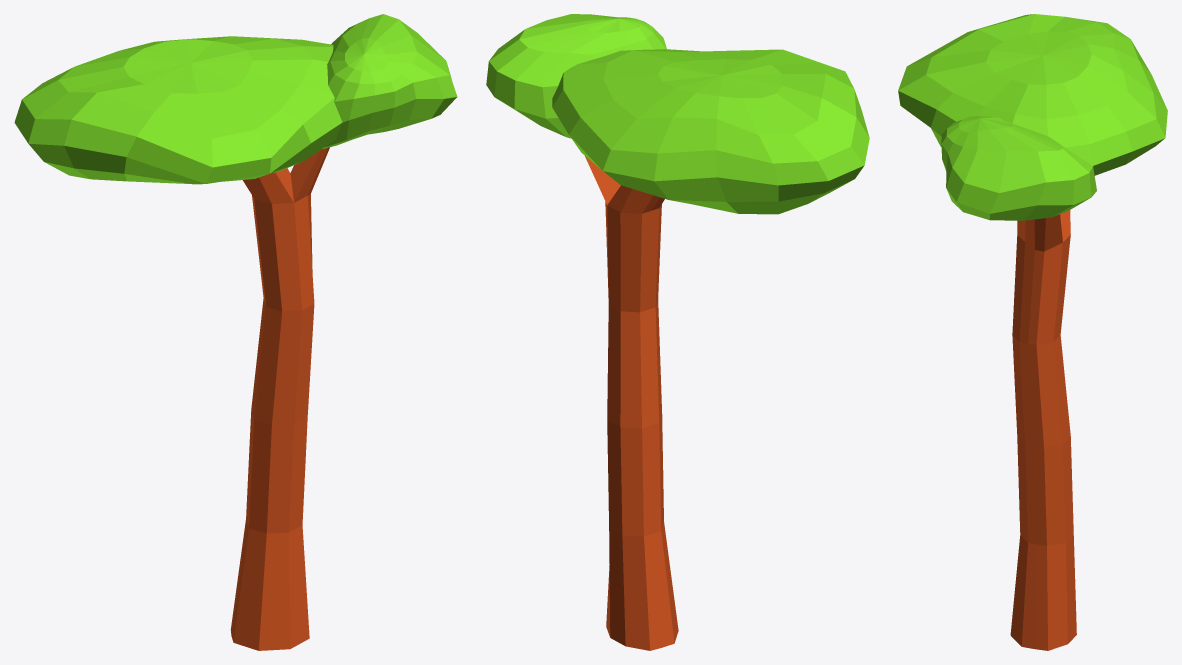
File: Laubbaum_02_unsymetric_02_rdy.fbx
The picture shows the model from 3 angles, left to right: view 1: azimuth 30°, elevation 25°; view 2: azimuth 150°, elevation 25°; view 3: azimuth 270°, elevation 25°; orthographic projection. The views are drawn at different scales.
Visible parts, largest first — view 1: Nadelbaum_02_unsymetric_02; view 2: Nadelbaum_02_unsymetric_02; view 3: Nadelbaum_02_unsymetric_02.
Part boxes in pixels (bbox=[...]): Nadelbaum_02_unsymetric_02: bbox=[14, 14, 457, 650]; Nadelbaum_02_unsymetric_02: bbox=[486, 14, 869, 650]; Nadelbaum_02_unsymetric_02: bbox=[898, 14, 1167, 650].
Size of the model in its own units: 1003 by 1469 by 659.
